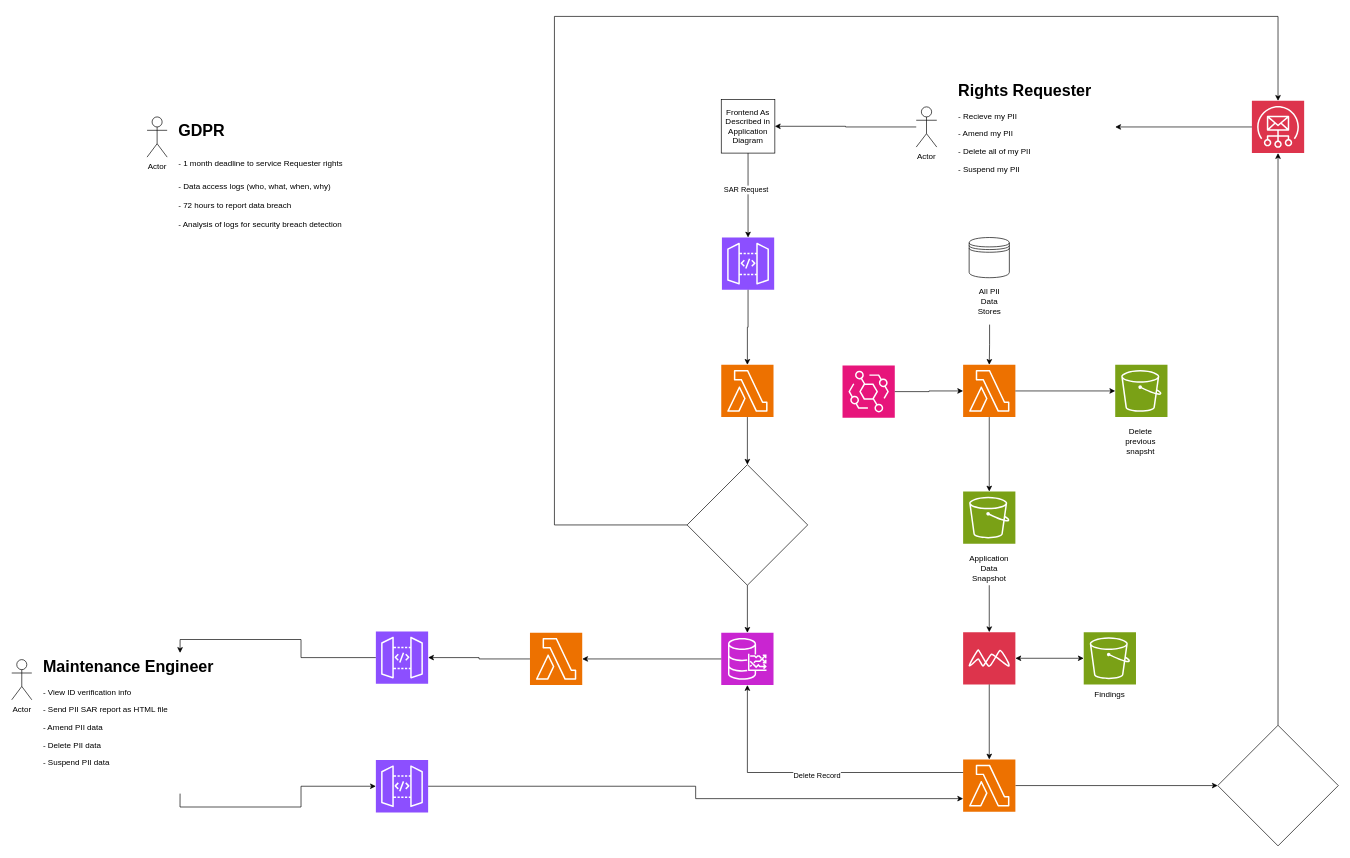
This 1350x858 diagram has some shape labels left out. The shapes that lost their labels are listed below. From the top down, each one's centre as x and y in pixels, then its label:
At (x=747, y=524): "Reject for invalid request OR Add to valid requests".
At (x=1277, y=785): "Rejection for ID OR SAR HTML file".
